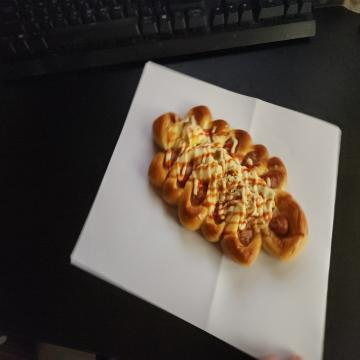pizza_bread: (149, 103, 309, 266)
